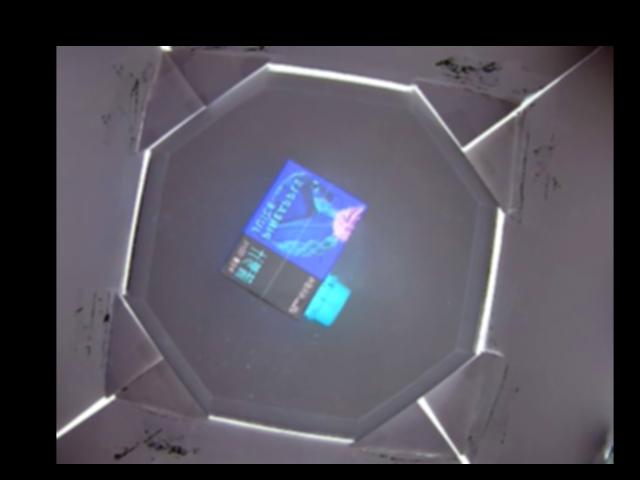Bottle: (219, 157, 368, 325)
